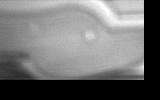cell: (25, 18, 46, 39), (81, 25, 99, 44)
